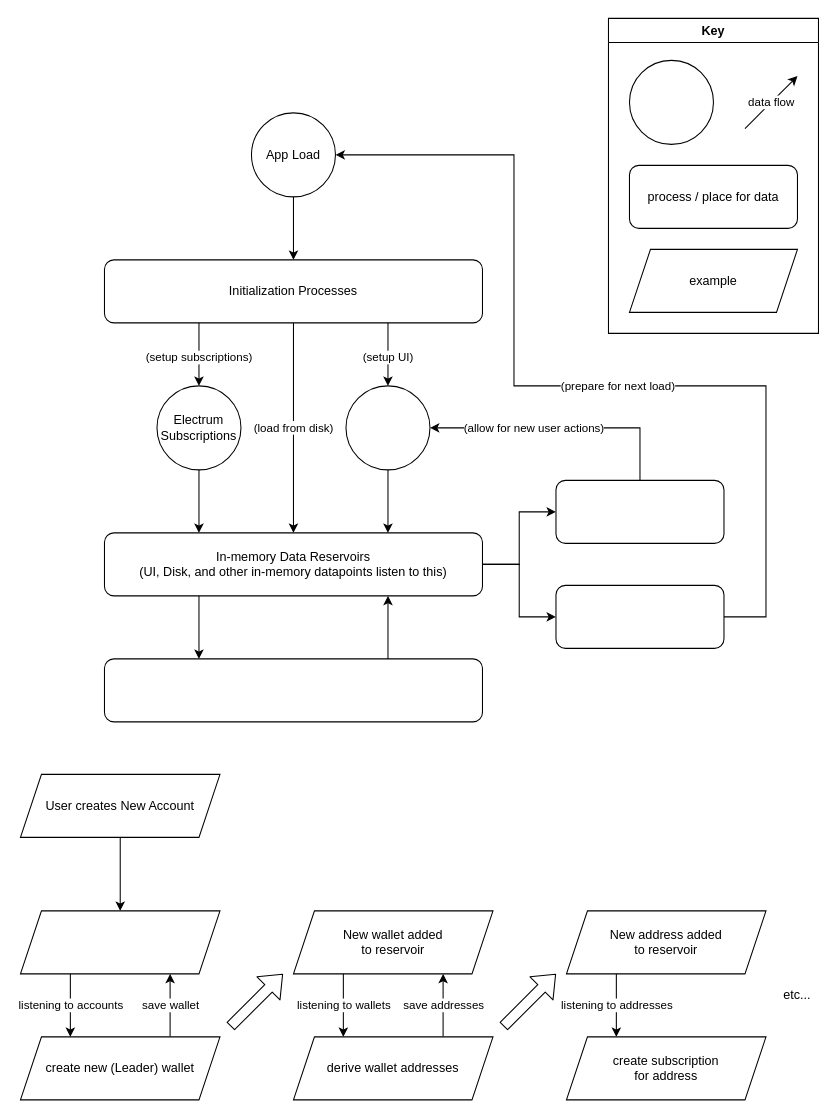
Some shapes in this 837 by 1118 pixel diagram are drawn without their labels. Each missing label, with the centre of its shape:
"listened to event" goes at [670,101].
"New account added to reservoir" goes at [119,942].
"Sink to Disk" goes at [639,616].
"Sync to UI" goes at [639,511].
"Take Actions (modify other in-memory data points)" goes at [292,690].
"User Actions" goes at [387,427].
